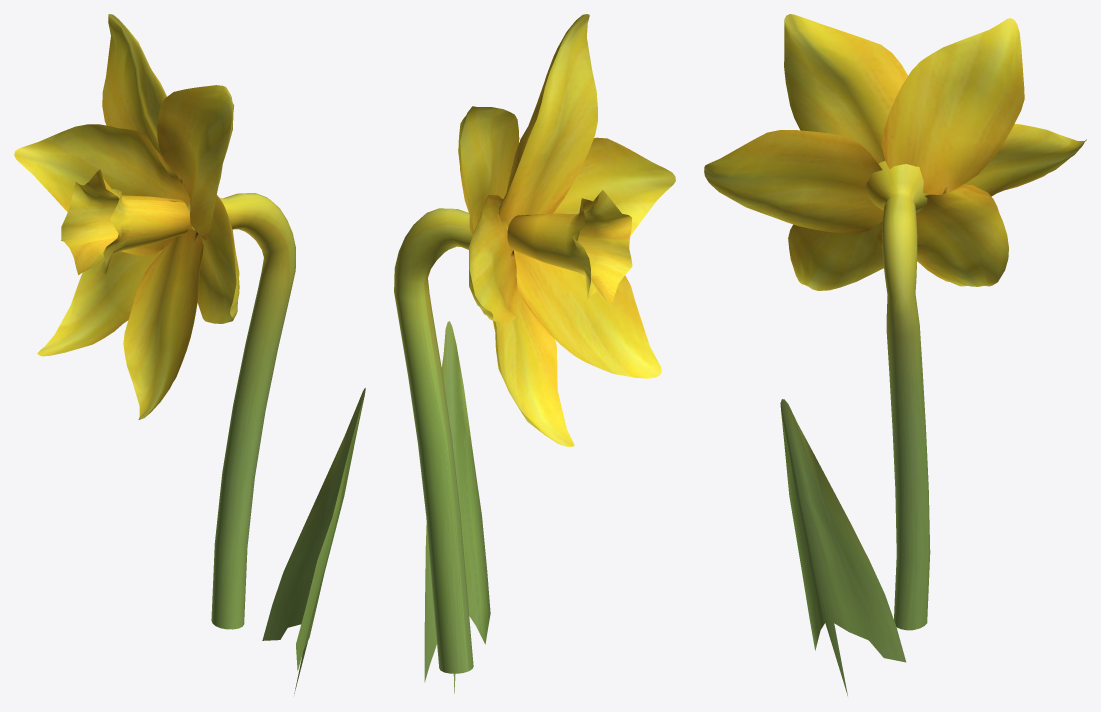
3 renders of one model, left to right at view 1: azimuth 30°, elevation 25°; view 2: azimuth 150°, elevation 25°; view 3: azimuth 270°, elevation 25°, orthographic. The views are drawn at different scales.
Parts seen in each view (by area): view 1: 5cd42ff7; view 2: 5cd42ff7; view 3: 5cd42ff7.
Part boxes in pixels (x1=…): 5cd42ff7: x1=14, y1=14, x2=365, y2=693; 5cd42ff7: x1=394, y1=14, x2=675, y2=693; 5cd42ff7: x1=704, y1=14, x2=1086, y2=695.
Bounding box in the file's own units: 0.0612 × 0.1711 × 0.093.
3 materials, 3 textured.
